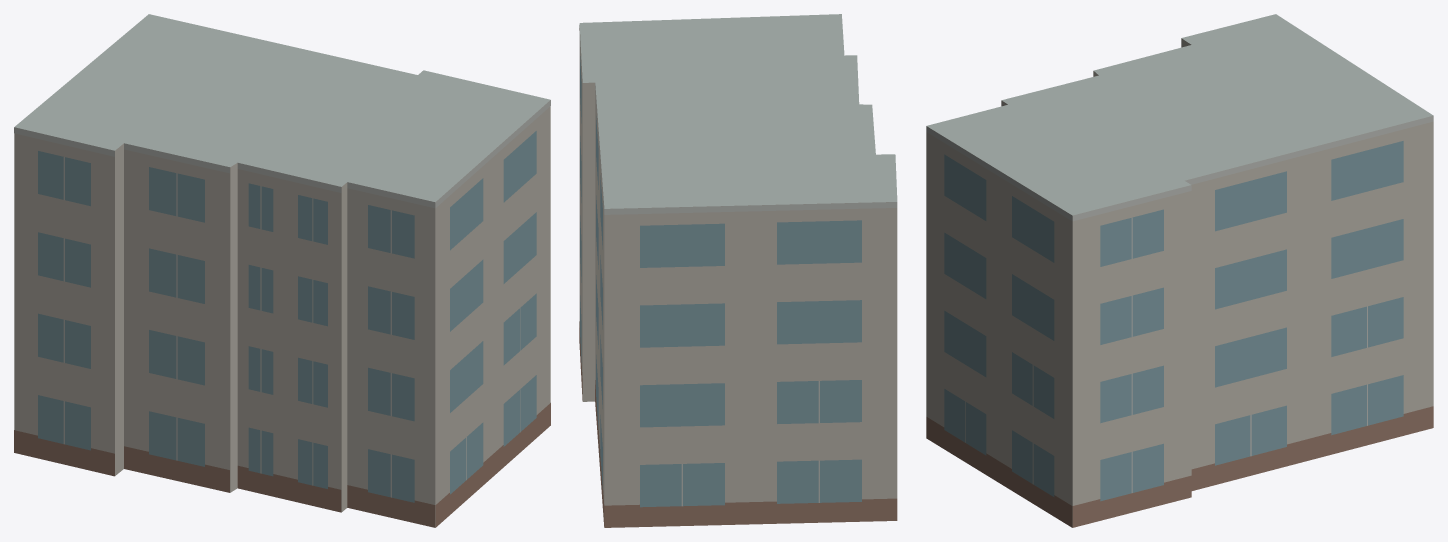
The model's file is survey-upis-32942325.glb.
3 views of the same model, side by side, from view 1: azimuth 30°, elevation 25°; view 2: azimuth 150°, elevation 25°; view 3: azimuth 270°, elevation 25° (orthographic). The views are drawn at different scales.
Parts seen in each view (by area): view 1: survey-upis-32942325.tmp; view 2: survey-upis-32942325.tmp; view 3: survey-upis-32942325.tmp.
Boxes of the visible parts, <box> form: survey-upis-32942325.tmp: <box>14,14,550,527</box>; survey-upis-32942325.tmp: <box>579,14,897,527</box>; survey-upis-32942325.tmp: <box>926,14,1433,527</box>.
Size of the model in its own units: 17.86 by 12.9 by 19.
